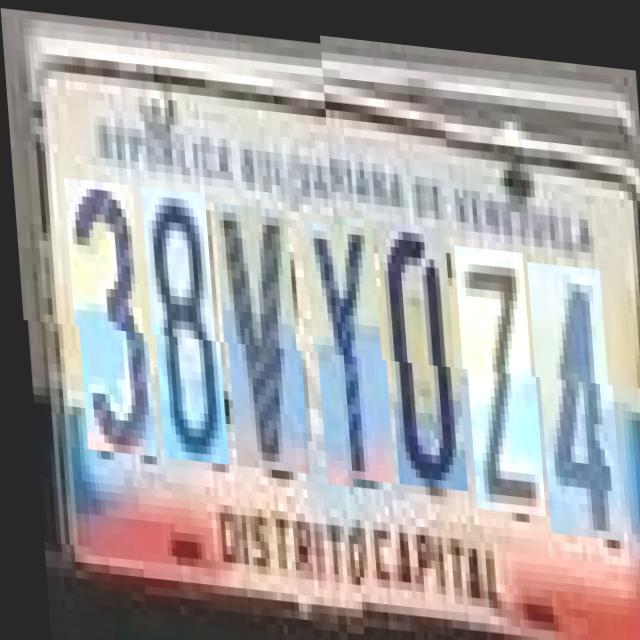0: (378, 221, 462, 489)
3: (66, 177, 150, 454)
4: (529, 258, 617, 536)
8: (142, 184, 222, 461)
V: (215, 198, 303, 468)
Y: (305, 215, 389, 482)
Z: (456, 245, 540, 512)
